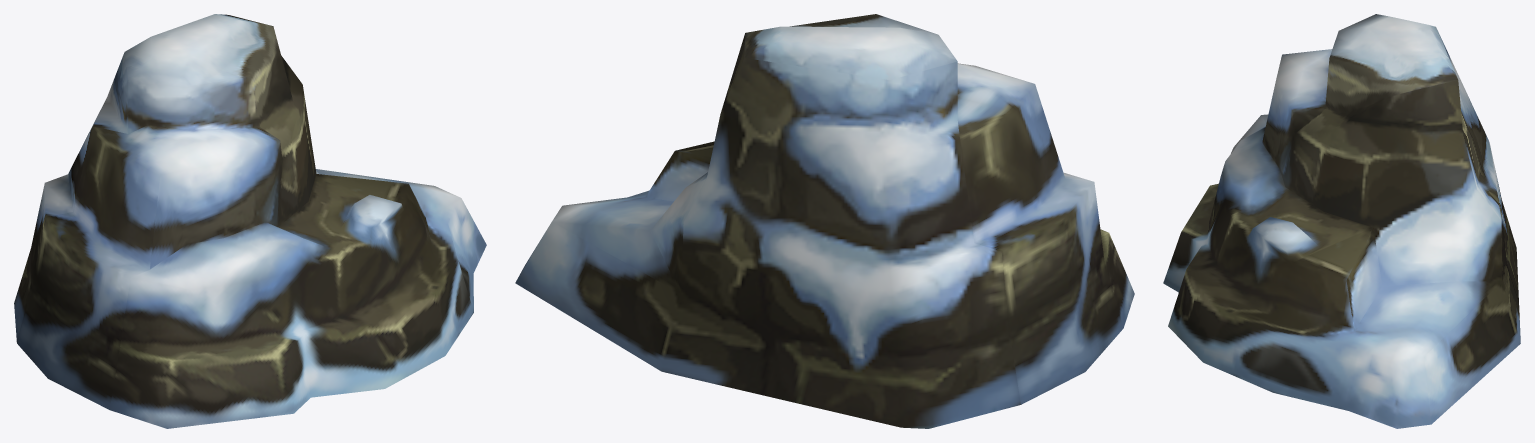
The model's file is ShiTou01.FBX.
The picture shows the model from 3 angles, left to right: view 1: azimuth 30°, elevation 25°; view 2: azimuth 150°, elevation 25°; view 3: azimuth 270°, elevation 25°; orthographic projection. The views are drawn at different scales.
Visible parts, largest first — view 1: ShiTou01; view 2: ShiTou01; view 3: ShiTou01.
Boxes of the visible parts, bbox=[...] form: ShiTou01: bbox=[14, 14, 486, 428]; ShiTou01: bbox=[515, 14, 1134, 428]; ShiTou01: bbox=[1163, 14, 1520, 428].
Bounding box in the file's own units: 345 × 194 × 244.
